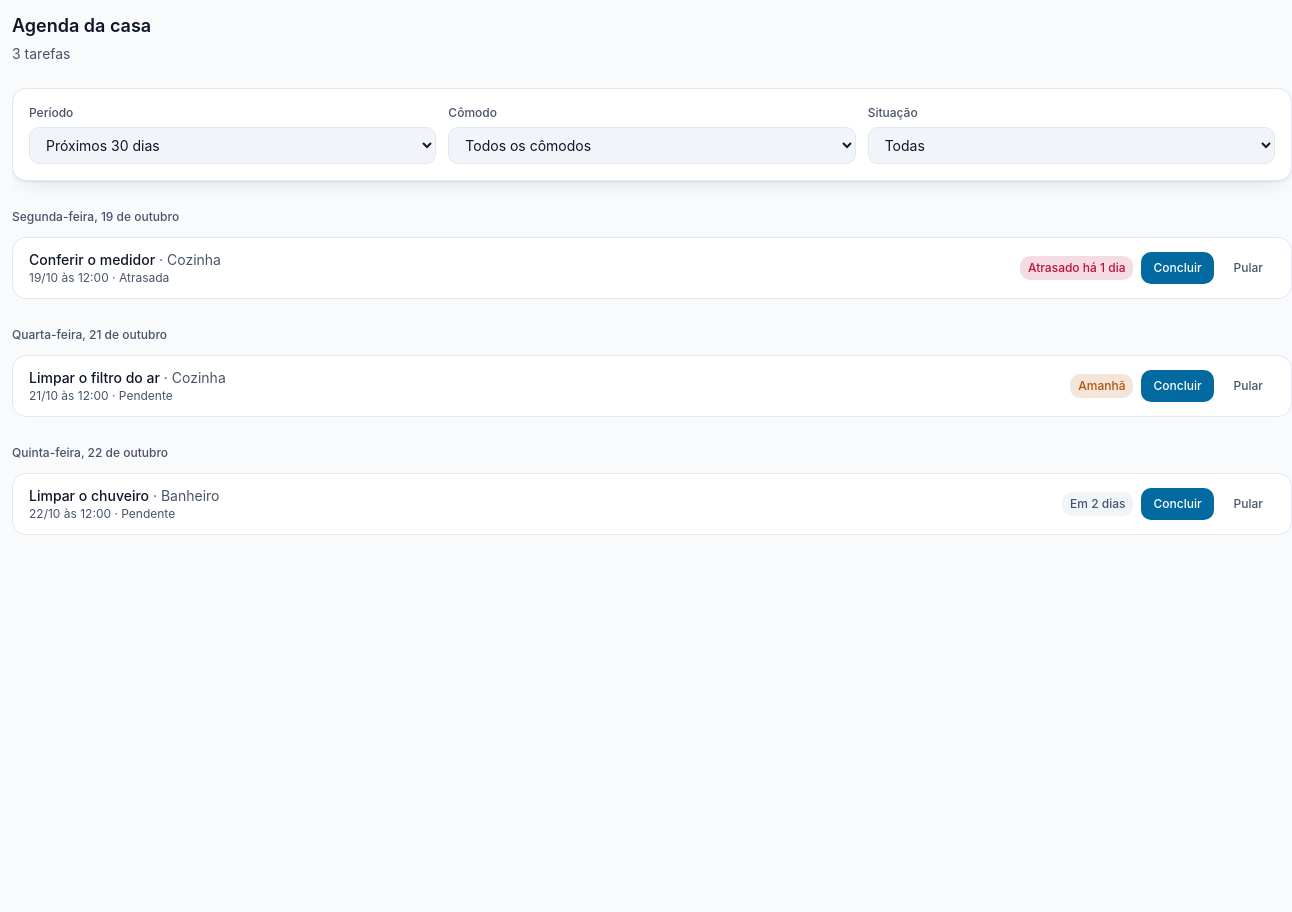
Test: TimelinePage › traduz o 409 de ocorrência já finalizada
Expected: the element with test id "timeline" is shown, 12,205 -> 1291,535
Click the button "Concluir" next to "Amanhã" at (1178, 386), box 1142,370 -> 1214,402
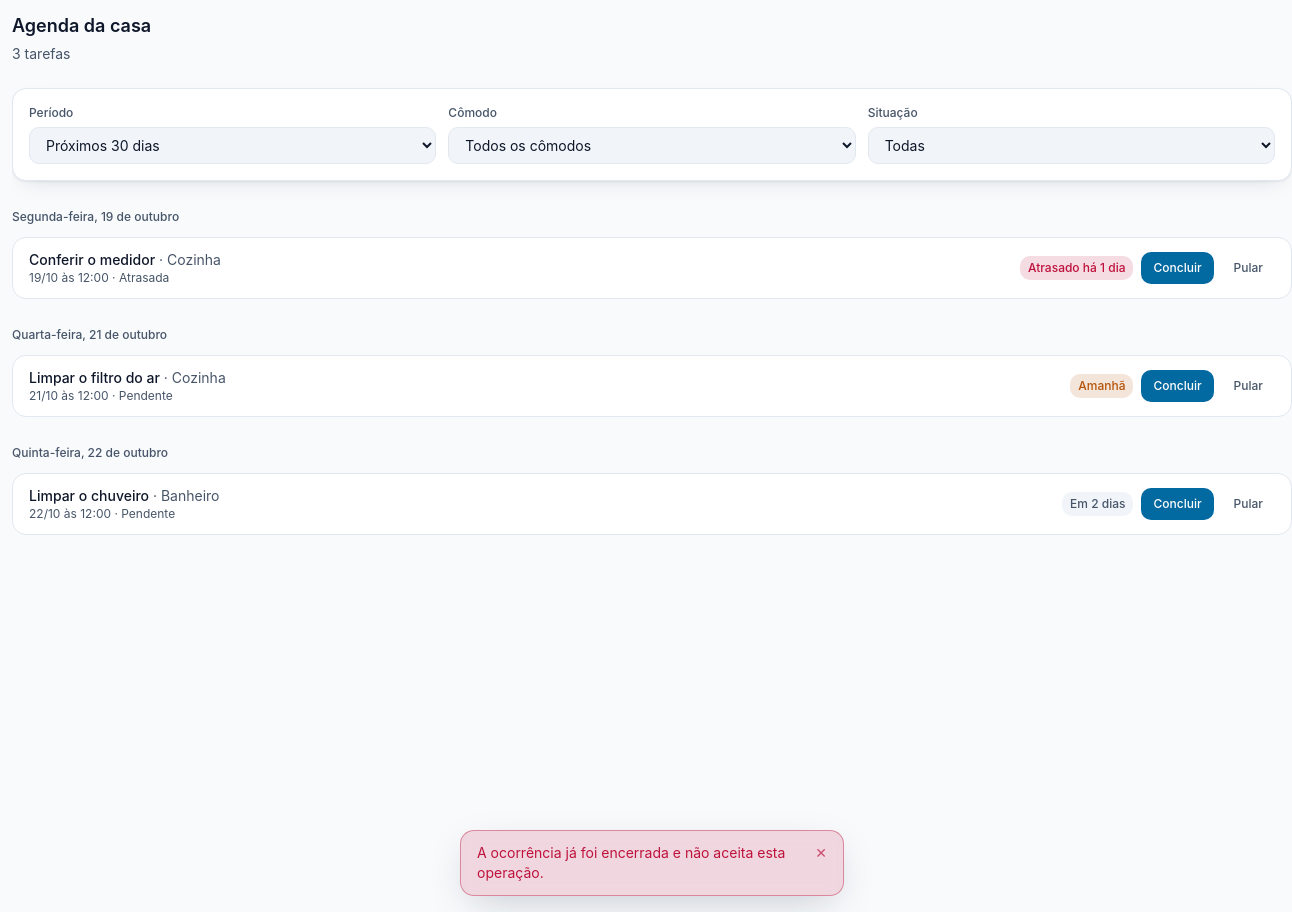
Now the text "A ocorrência já foi encerrada e não aceita esta operação." is shown, box 477,843 -> 803,883
